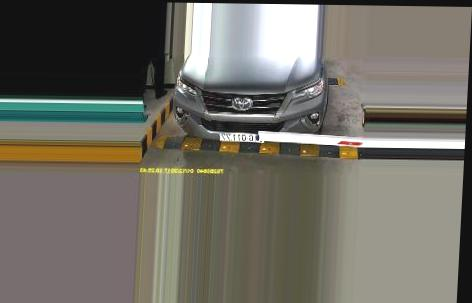License_Plate: (220, 129, 267, 144)
